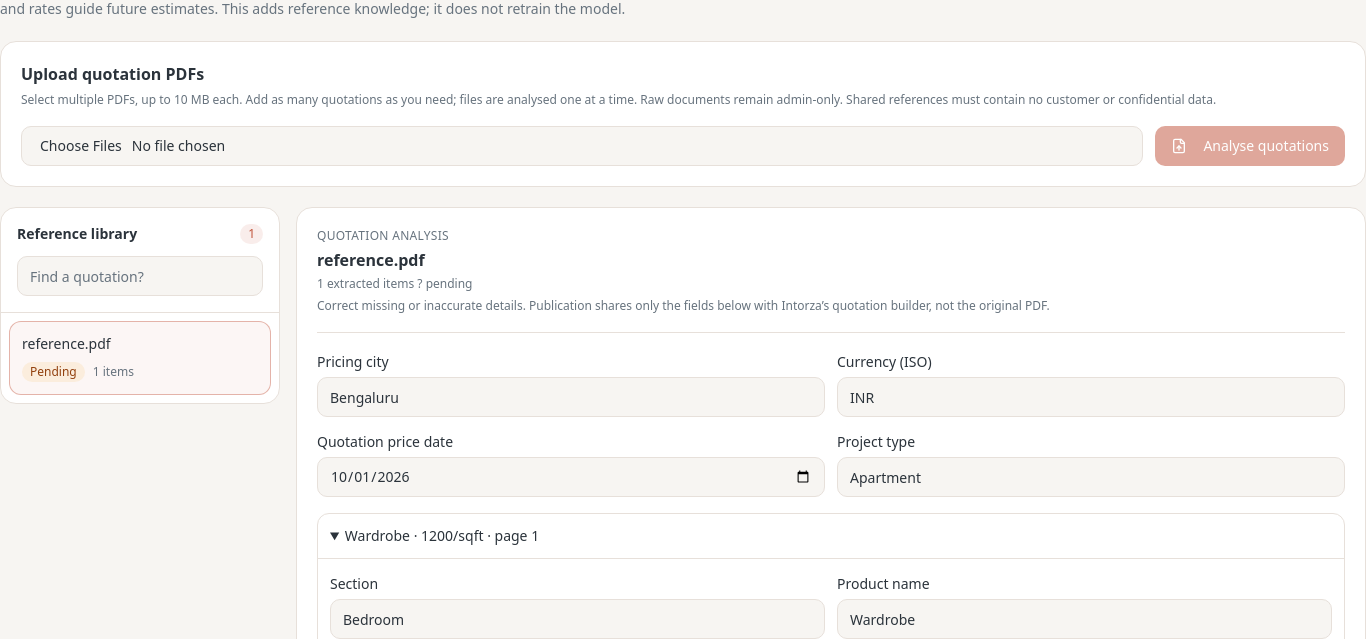
Scenario: requires review confirmation before publishing extracted patterns
This screenshot has width=1366, height=639.
Click the button "reference.pdf pending 1 items" at (66, 344), box [9,321,271,395]
(page scrolled)
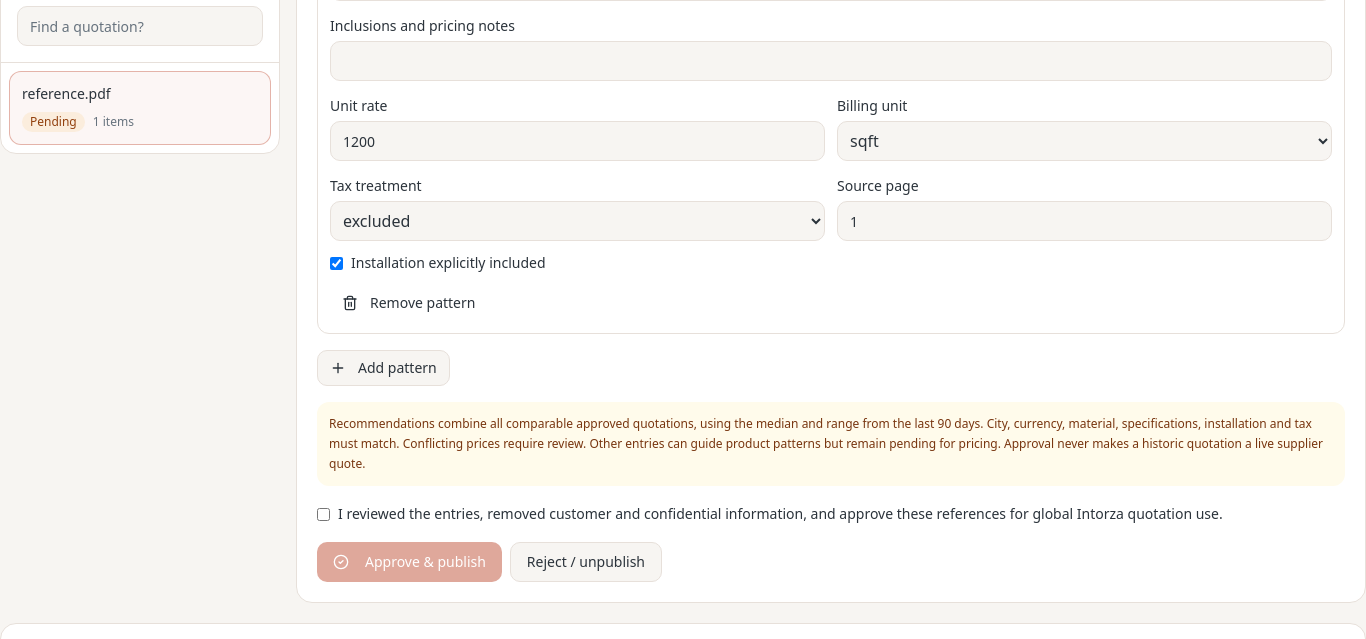
Check: the button "Approve & publish" is disabled, box [317,542,502,582]
Click the checkbox labelled "I reviewed the entries" at (324, 514), box [317,508,330,521]
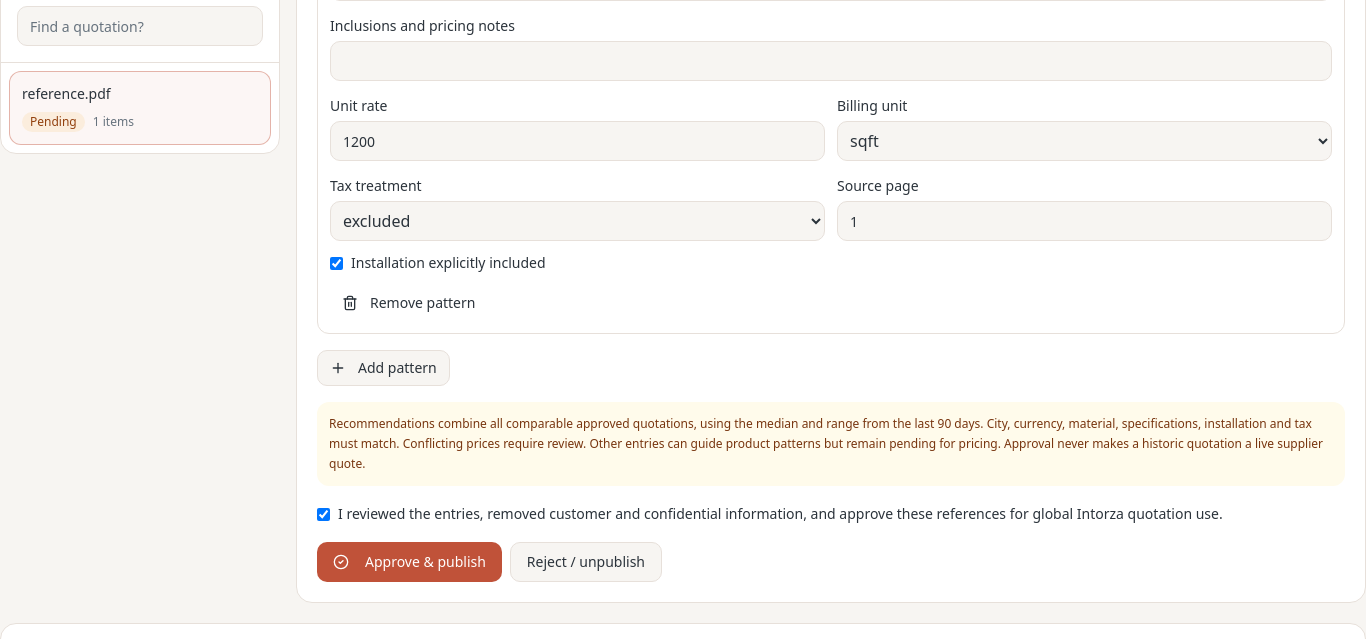
Check: the button "Approve & publish" is enabled
Click the button "Approve & publish" at (409, 562), box [317,542,502,582]
(page scrolled)
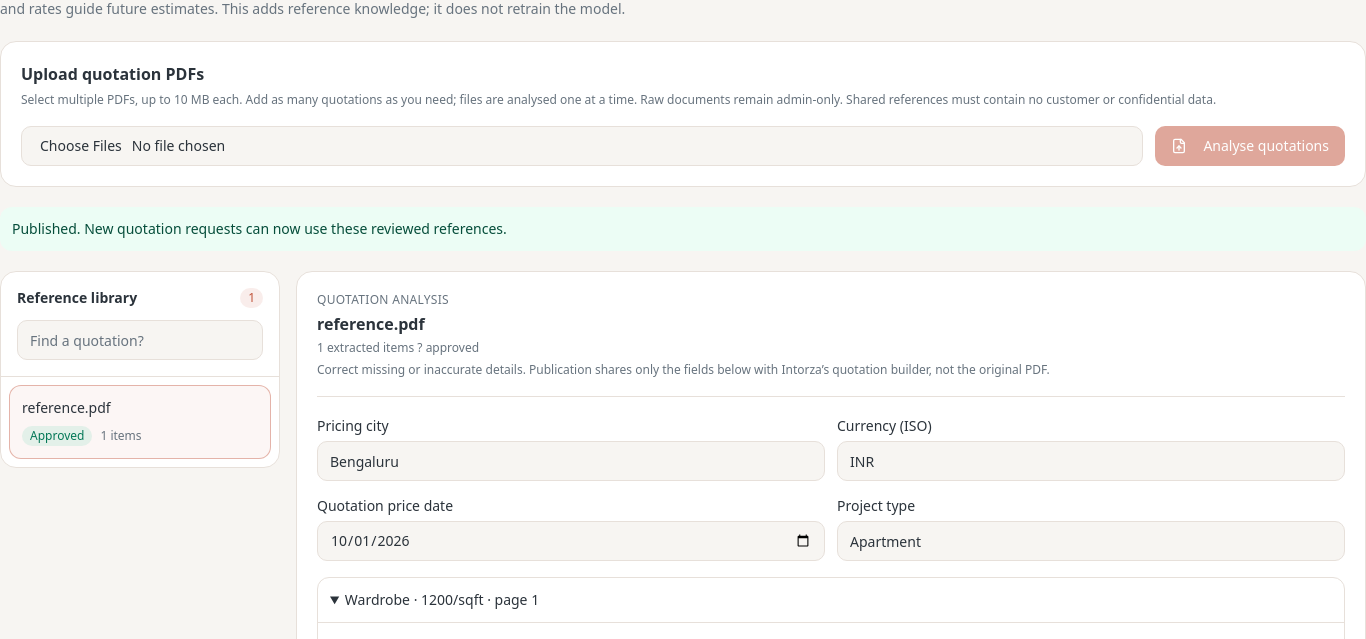
Check: the text "Published. New quotation requests can now use these reviewed references." is shown, box [0,207,1365,251]
